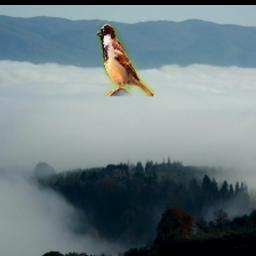Sparrow: (97, 23, 154, 96)
